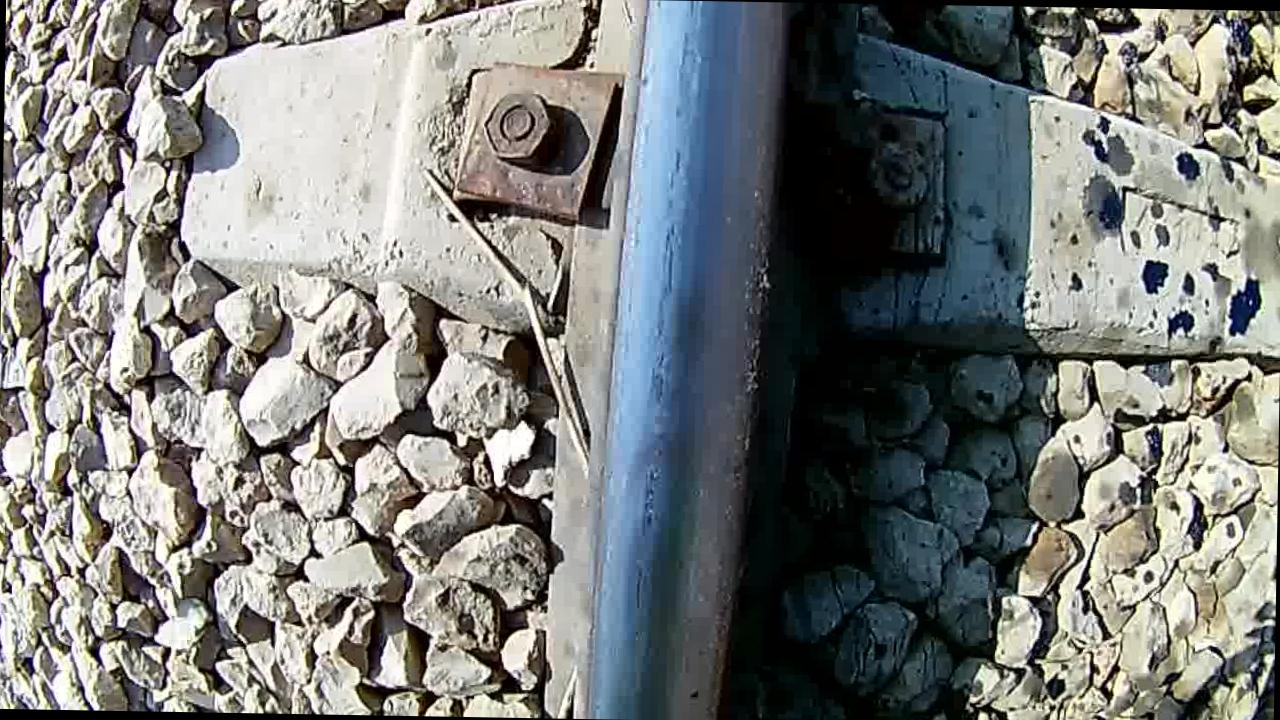crack: (588, 0, 777, 717)
